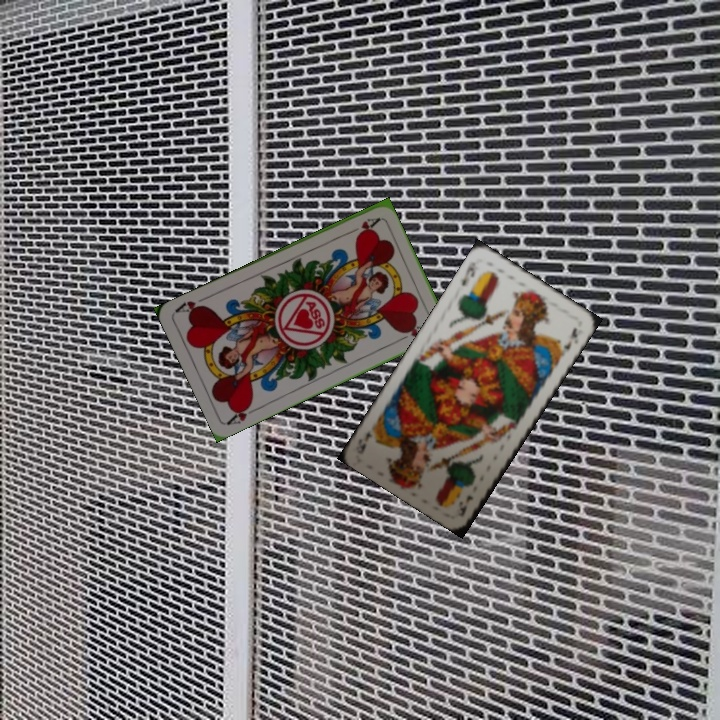EK: (457, 258, 482, 289), (452, 491, 476, 519)
HA: (223, 399, 262, 427), (343, 214, 382, 237)
